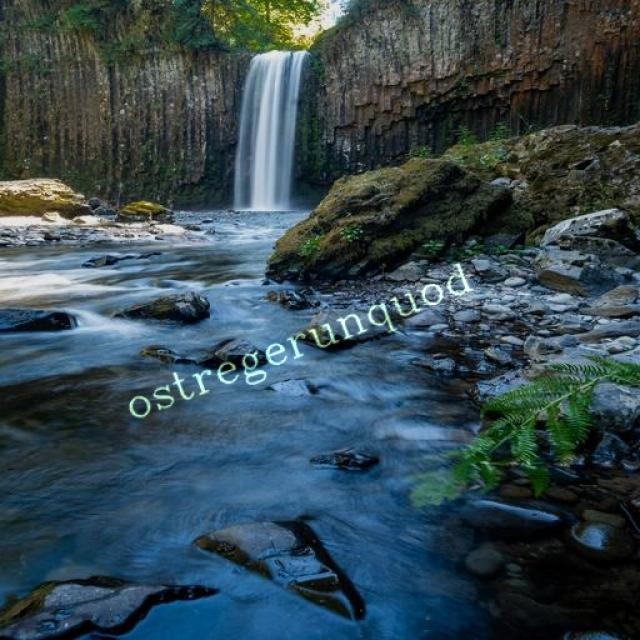watermark: (120, 256, 474, 428)
